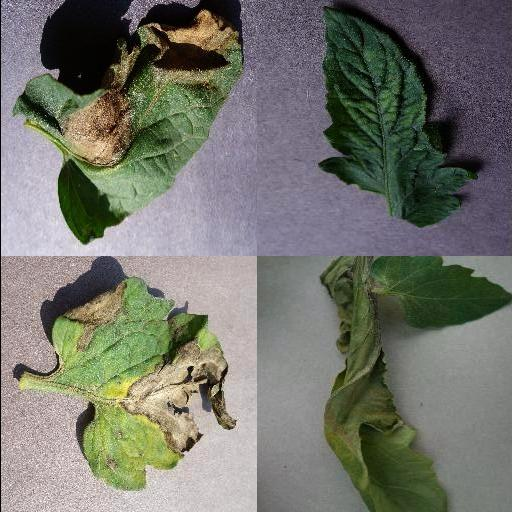Healthy: (371, 256, 512, 332)
Late Blight: (10, 9, 246, 245), (48, 277, 240, 493), (320, 256, 448, 512)
Mosaic Virus: (319, 5, 477, 229)
